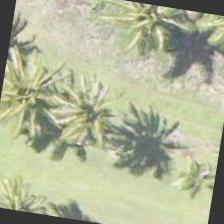Kelapa_Sawit: (39, 57, 142, 160), (0, 43, 78, 144), (91, 0, 190, 70), (0, 159, 63, 217), (182, 11, 223, 67)
